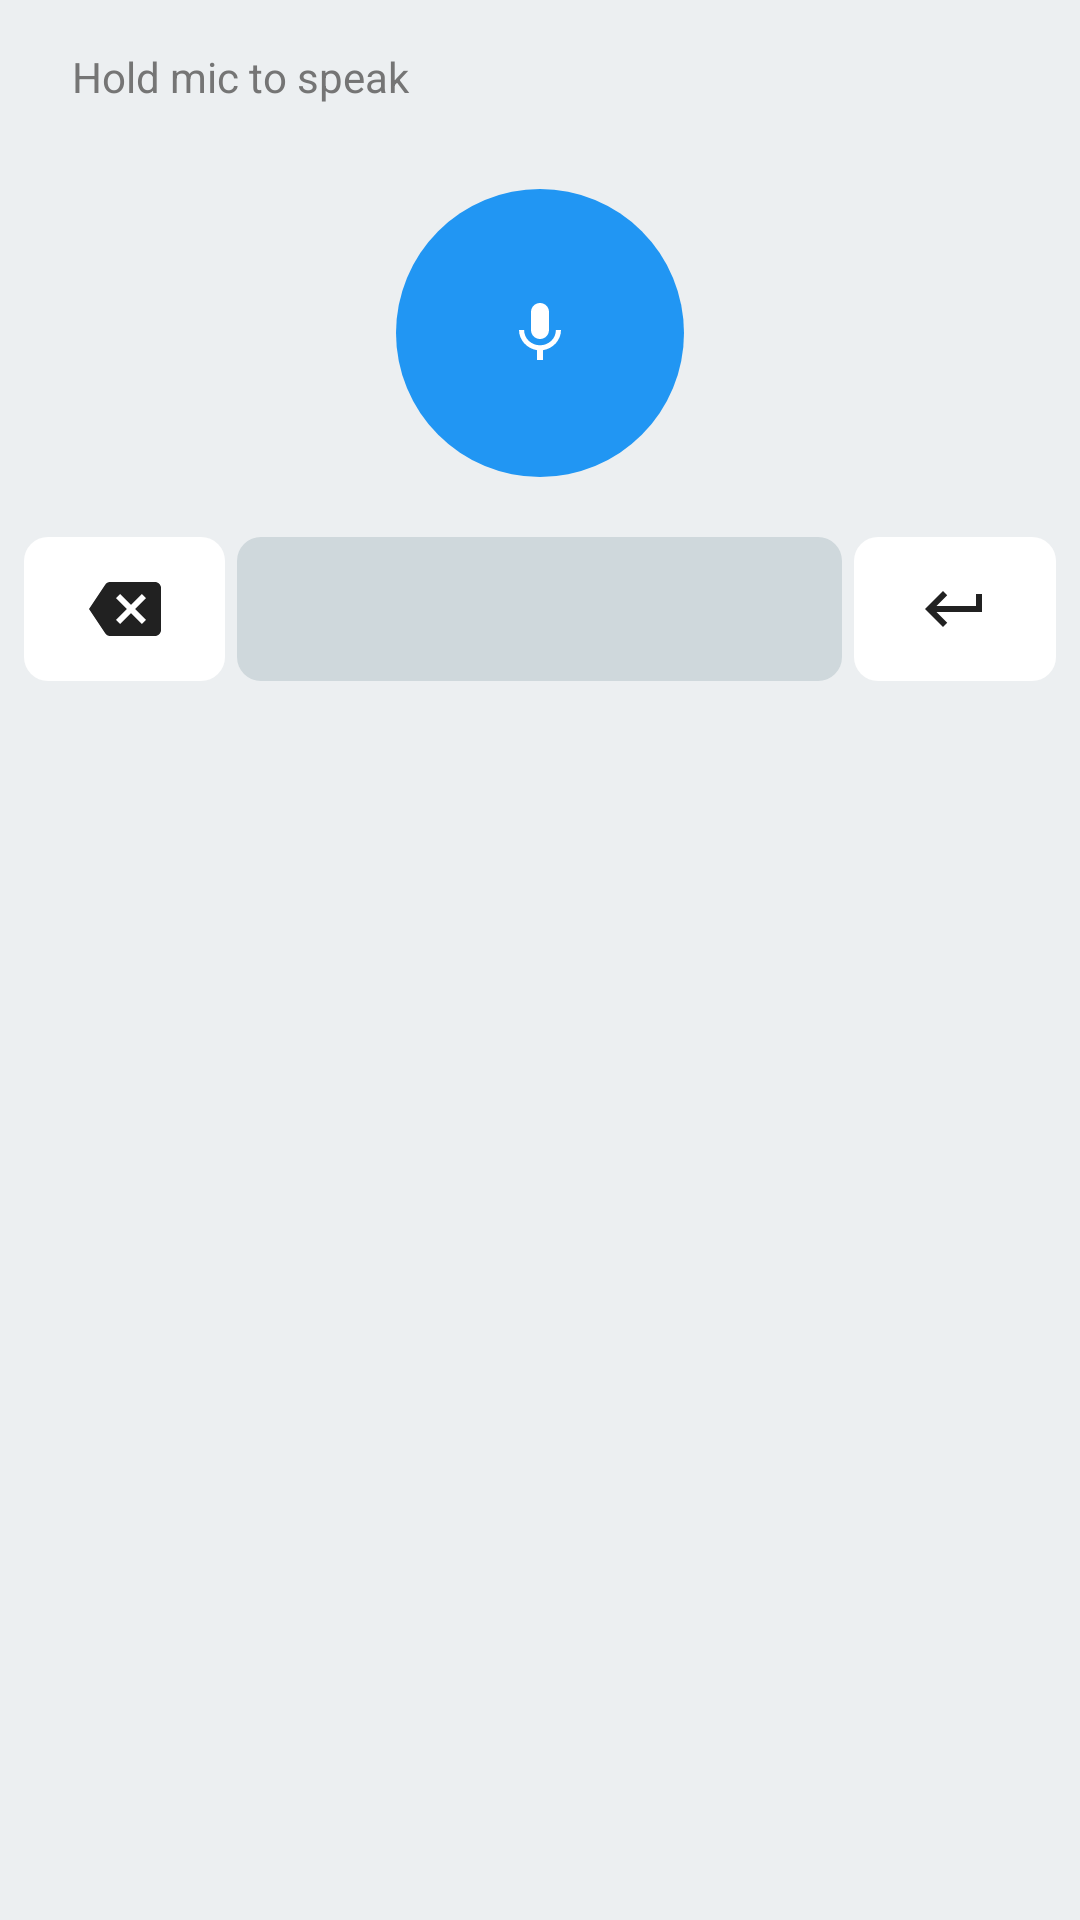

Screen size 1080px×1920px. Icon name, then its center in pixels as [x,y]:
Backspace: [125,609]
Enter: [955,609]
Microphone - hold to record: [540,333]
